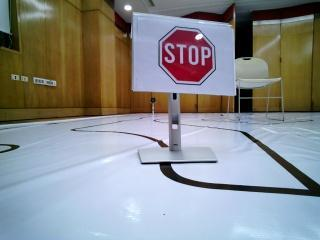stop: (145, 22, 235, 89)
